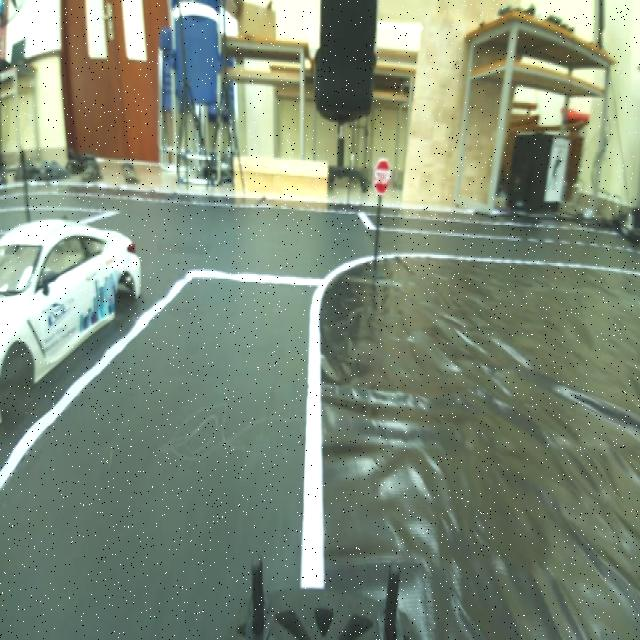stop: (369, 151, 394, 201)
